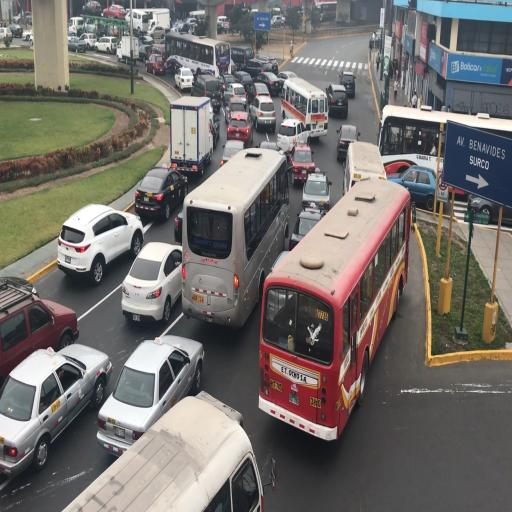auto: (57, 390, 258, 510), (1, 344, 112, 481), (97, 333, 205, 453), (1, 275, 76, 404), (57, 200, 142, 282), (120, 240, 186, 324), (181, 243, 242, 326), (134, 162, 189, 220), (386, 164, 436, 214), (288, 205, 327, 249), (300, 170, 330, 214), (289, 142, 318, 186), (277, 116, 307, 156), (194, 72, 222, 111), (225, 110, 253, 148), (256, 136, 286, 170), (249, 94, 275, 132), (336, 122, 358, 163), (224, 95, 250, 127), (326, 82, 348, 117), (221, 137, 248, 165), (255, 70, 283, 97), (250, 80, 272, 110), (223, 78, 246, 106), (145, 52, 169, 76), (243, 58, 267, 80), (338, 70, 356, 98), (165, 54, 189, 75), (256, 53, 278, 75), (174, 67, 194, 91), (132, 32, 155, 52), (144, 41, 164, 63), (276, 70, 298, 89), (94, 36, 116, 54), (67, 34, 87, 52), (176, 18, 198, 34), (103, 3, 125, 19), (80, 32, 98, 50), (83, 16, 99, 36), (82, 0, 102, 15), (148, 25, 166, 41), (258, 140, 280, 153), (106, 22, 121, 38), (0, 26, 13, 44), (8, 23, 23, 38), (22, 25, 34, 42), (95, 20, 107, 37), (171, 19, 186, 32), (271, 15, 284, 28), (116, 42, 123, 62), (222, 20, 232, 33), (12, 12, 22, 24), (67, 24, 77, 36), (25, 14, 32, 26), (217, 19, 223, 33)
bus: (169, 95, 215, 182), (116, 35, 141, 64)
moto: (262, 166, 405, 432), (378, 102, 509, 212), (163, 30, 224, 81), (342, 140, 386, 198), (126, 9, 152, 35), (231, 44, 255, 71), (314, 0, 337, 22), (269, 6, 282, 18)
